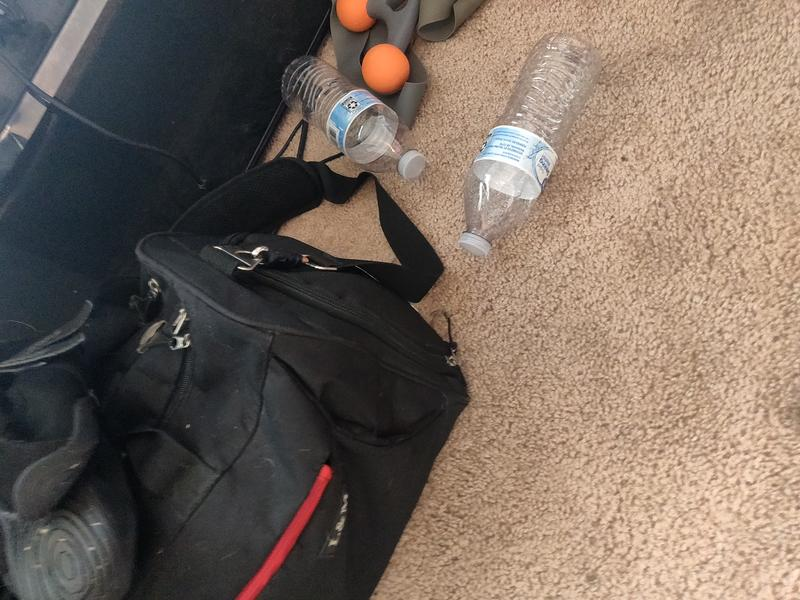bottle: (458, 32, 602, 258), (280, 55, 425, 178)
